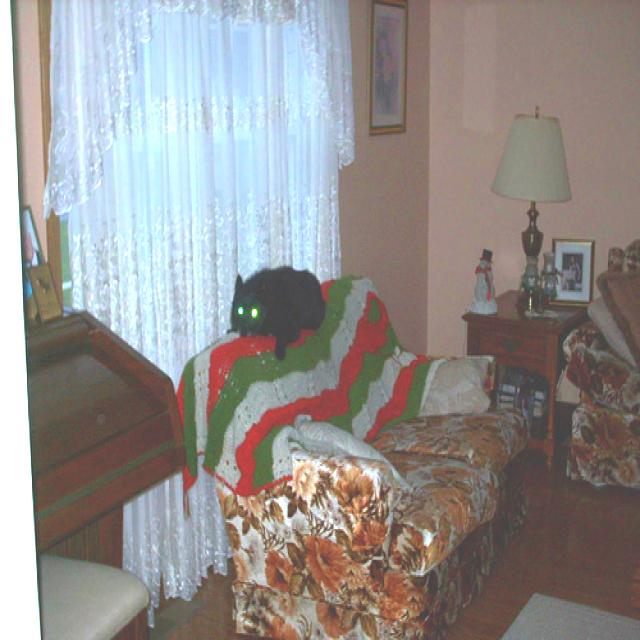Dog: (209, 198, 341, 366)
